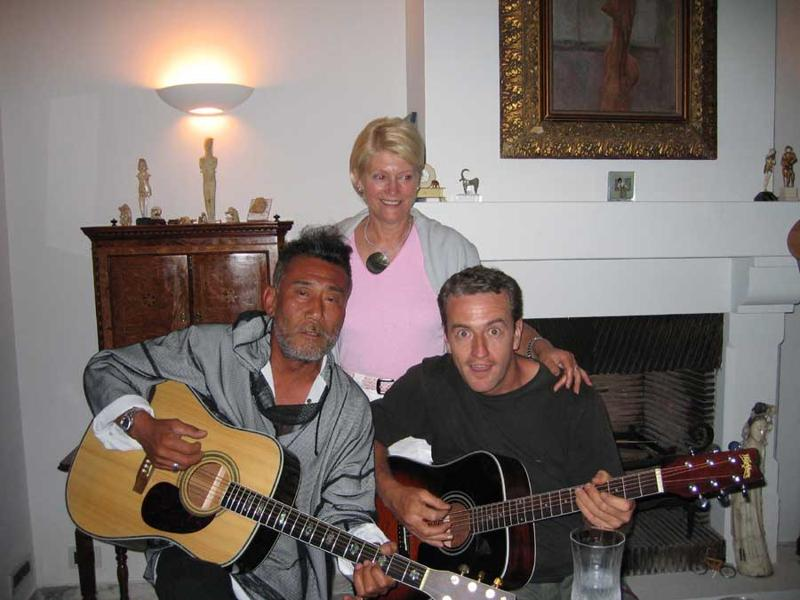person: (83, 231, 404, 600)
